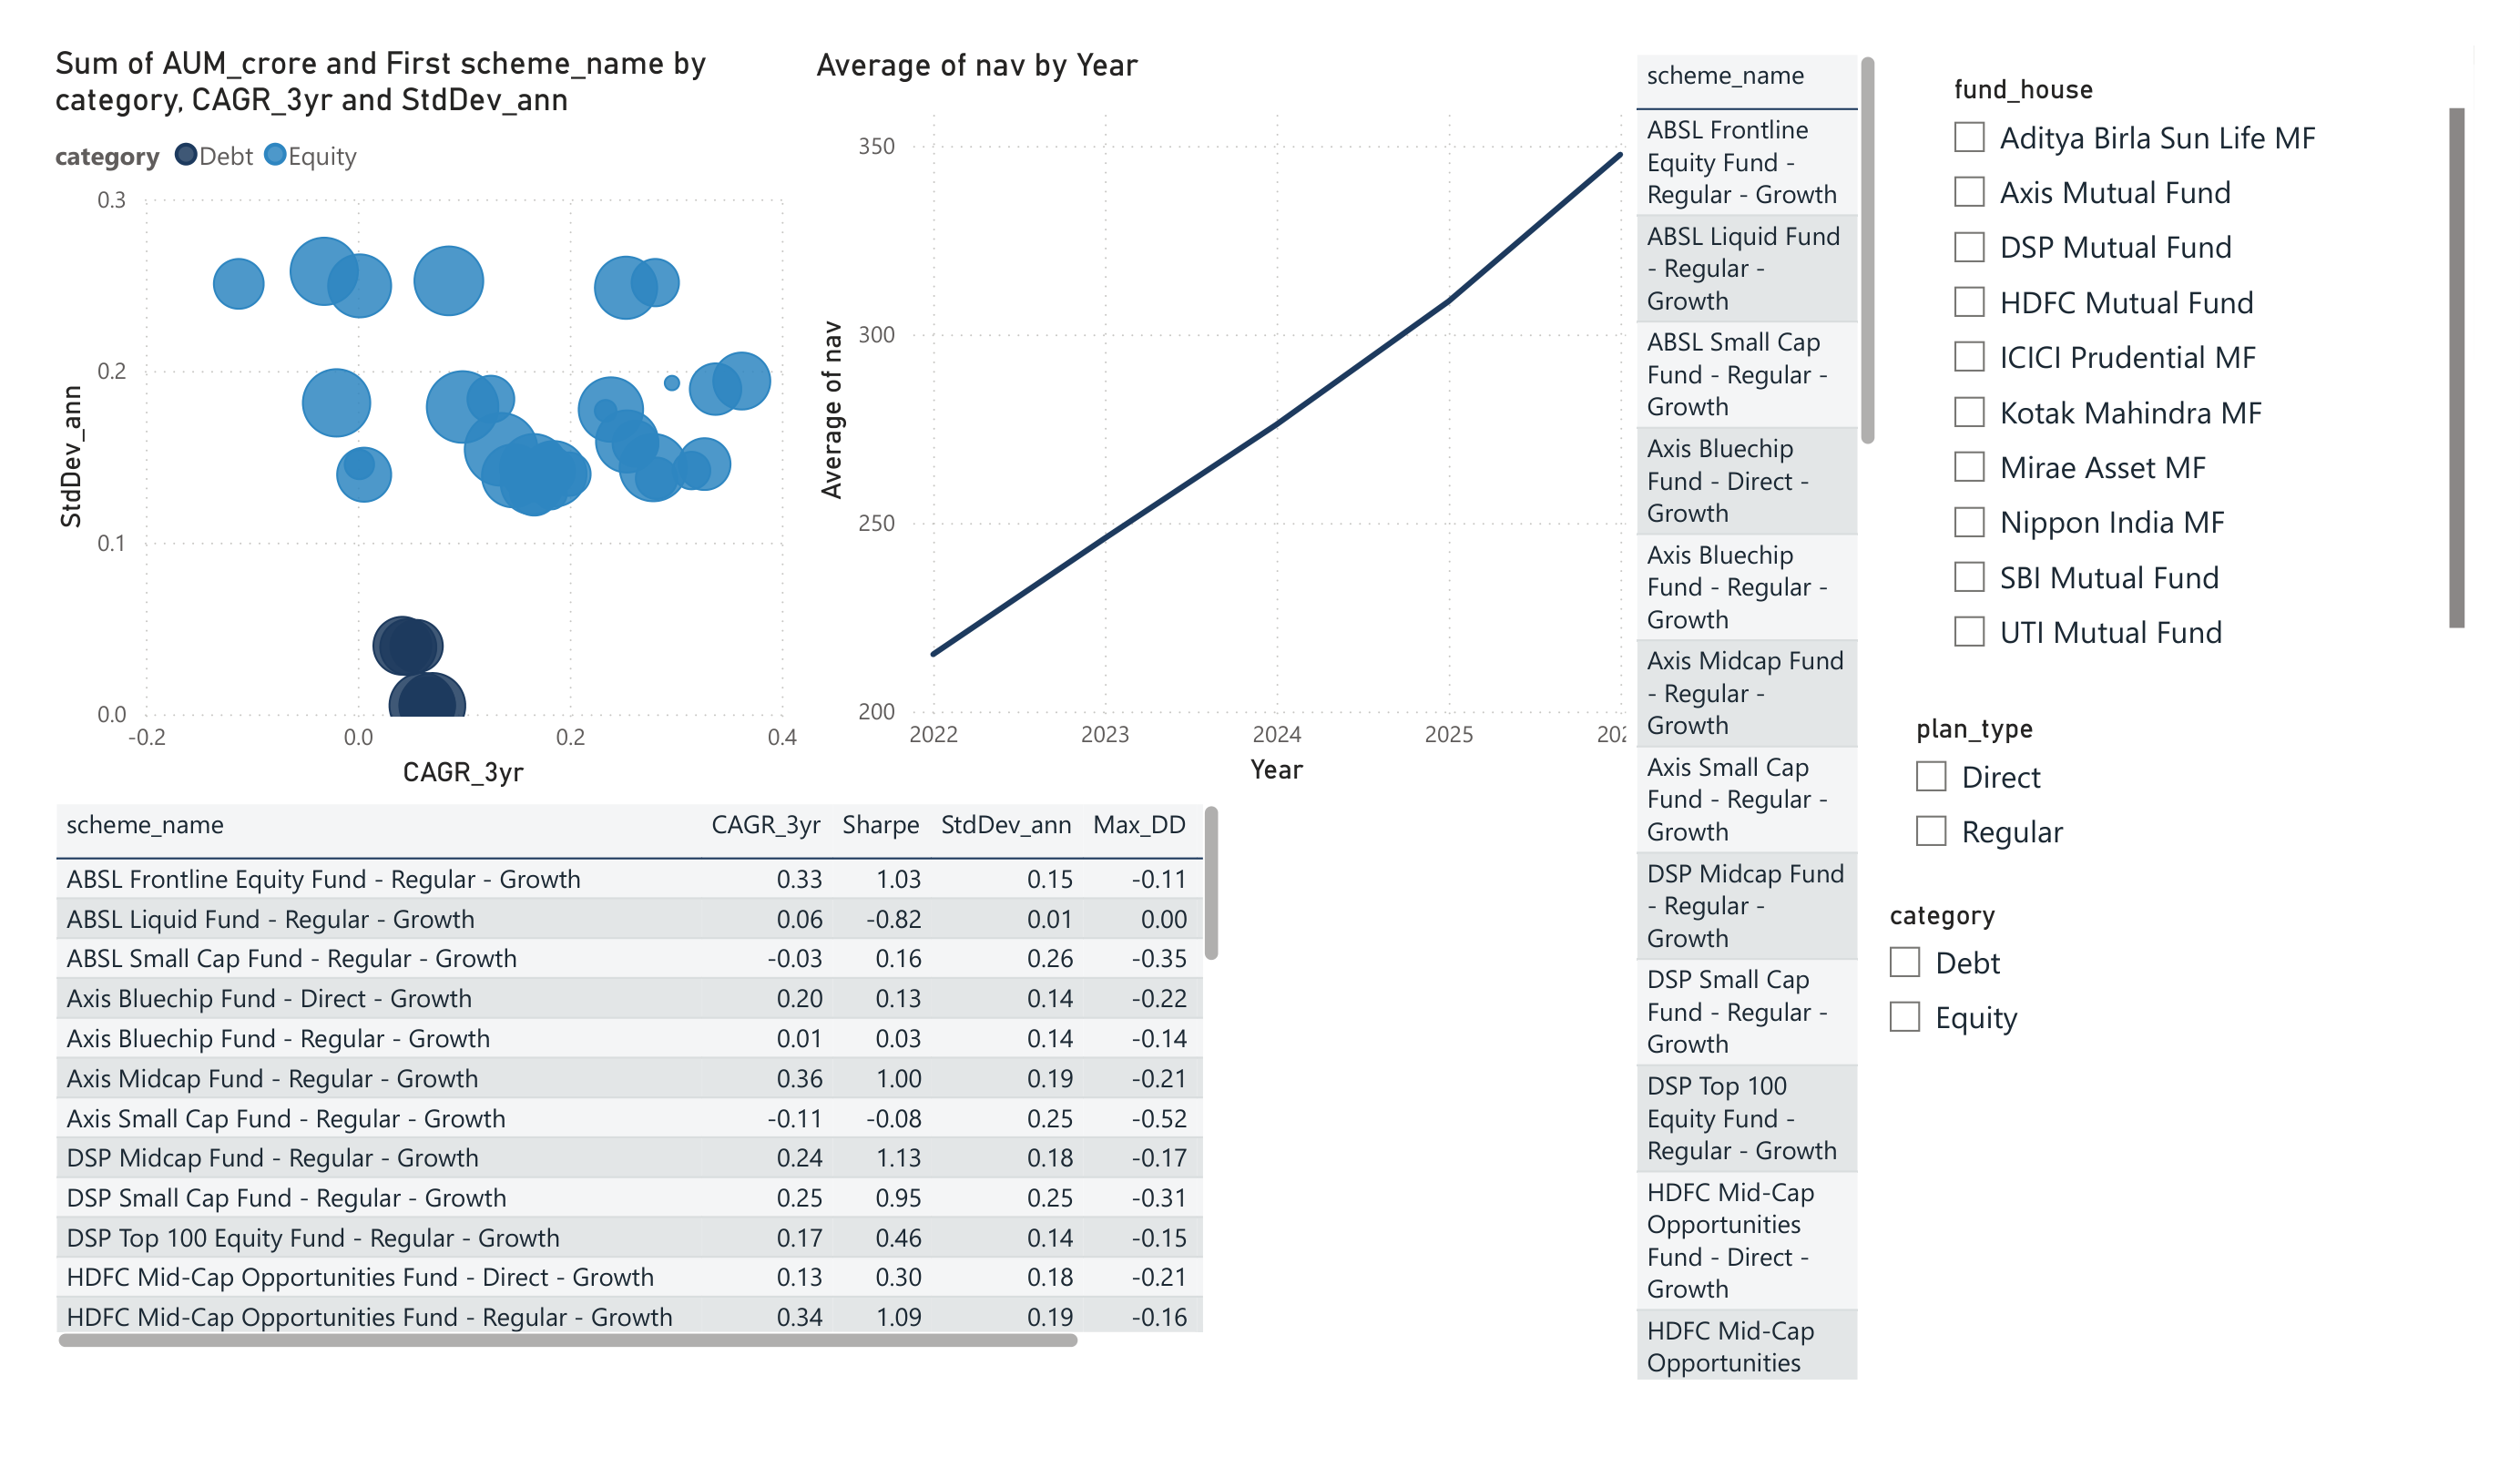

The page's visual inventory and layout, read from the dashboard file:
{"tool":"powerbi","page":{"name":"Fund Performance","canvas":[1280,720],"ordinal":1},"visuals":[{"type":"scatterChart","fields":{"X":["fund_scorecard_pbi.CAGR_3yr"],"Y":["fund_scorecard_pbi.StdDev_ann"],"Size":["Sum(fund_scorecard_pbi.AUM_crore)"],"Series":["dim_fund.category"]},"box":[0.4,-0.7,400.7,396.6],"z":0},{"type":"lineChart","fields":{"Category":["dim_date.full_date.Variation.Date Hierarchy.Year","dim_date.full_date.Variation.Date Hierarchy.Quarter","dim_date.full_date.Variation.Date Hierarchy.Month","dim_date.full_date.Variation.Date Hierarchy.Day"],"Y":["Avg(fact_nav.nav)"]},"box":[400.7,0,447.3,395.2],"z":1000},{"type":"tableEx","fields":{"Values":["dim_fund.scheme_name"]},"box":[832.9,0,137.2,708.1],"z":2000},{"type":"slicer","fields":{"Values":["dim_fund.fund_house"]},"box":[993.5,9.6,286.8,314.2],"z":3000},{"type":"slicer","fields":{"Values":["dim_fund.category"]},"box":[959.2,444.6,321.1,111.1],"z":4000},{"type":"slicer","fields":{"Values":["dim_fund.plan_type"]},"box":[972.9,347.2,307.4,97.4],"z":5000},{"type":"tableEx","fields":{"Values":["dim_fund.scheme_name","fund_scorecard_pbi.CAGR_3yr","fund_scorecard_pbi.Sharpe","fund_scorecard_pbi.StdDev_ann","fund_scorecard_pbi.Max_DD","fund_scorecard_pbi.AUM_crore"]},"box":[0,395.2,624.4,296.4],"z":5001}]}

Visuals, with their boxes on the page's 1280x720 design canvas (x1, y1, x2, y2). These are canvas units, not pixel positions in the 2520x1457 screenshot, which may show the page scaled, cropped or inside an application window:
scatterChart - fund_scorecard_pbi.CAGR_3yr x fund_scorecard_pbi.StdDev_ann: bbox(0, -1, 401, 396)
lineChart - dim_date.full_date.Variation.Date Hierarchy.Year x dim_date.full_date.Variation.Date Hierarchy.Quarter: bbox(401, 0, 848, 395)
tableEx - dim_fund.scheme_name: bbox(833, 0, 970, 708)
slicer - dim_fund.fund_house: bbox(994, 10, 1280, 324)
slicer - dim_fund.category: bbox(959, 445, 1280, 556)
slicer - dim_fund.plan_type: bbox(973, 347, 1280, 445)
tableEx - dim_fund.scheme_name x fund_scorecard_pbi.CAGR_3yr: bbox(0, 395, 624, 692)
